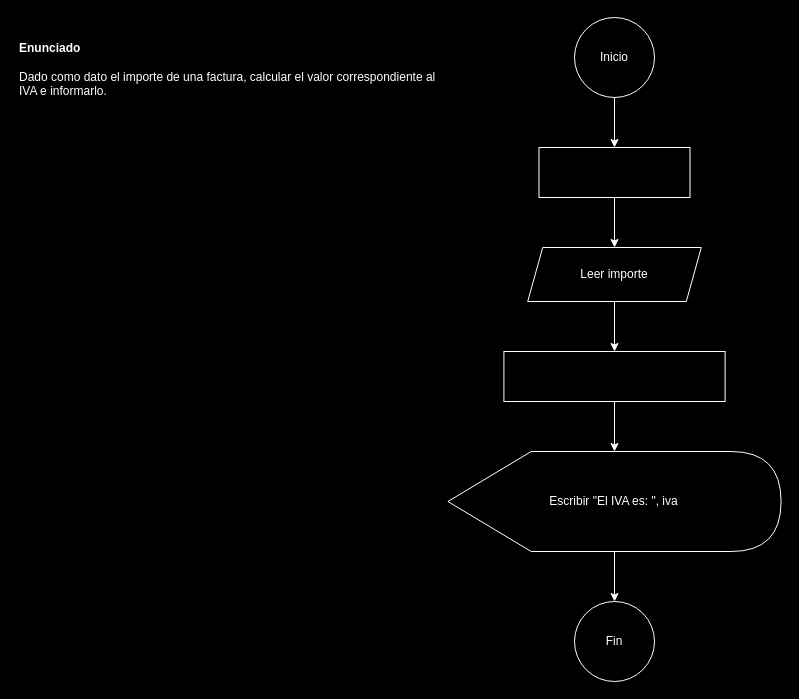
This 799x699 diagram has some shape labels left out. Here are the shapes that lost their labels. From the top down, the box of each, then its label:
(538, 146, 690, 198): tasa_iva ← 0.21
(503, 350, 725, 402): iva ← importe * tasa_iva
